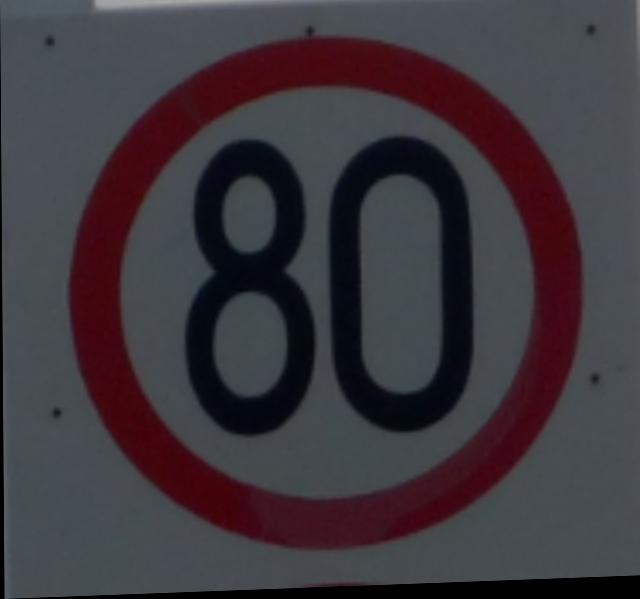limit80: (52, 19, 596, 573)
